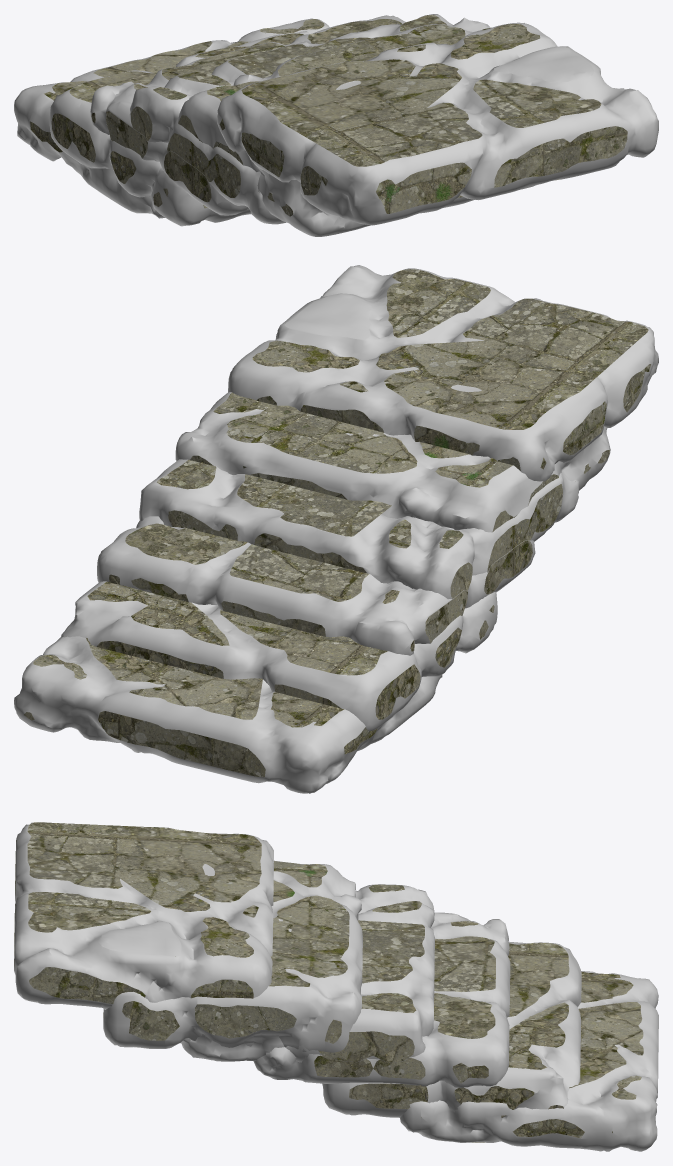
Rendered from SM_Chateaux_06_07.fbx.
3 views of the same model, one above another, from view 1: azimuth 30°, elevation 25°; view 2: azimuth 150°, elevation 25°; view 3: azimuth 270°, elevation 25° (orthographic). The views are drawn at different scales.
Visible parts, largest first — view 1: SM_Chateaux_06_07; view 2: SM_Chateaux_06_07; view 3: SM_Chateaux_06_07.
Part boxes in pixels (x1,y1,x2,y2): SM_Chateaux_06_07: [14, 14, 658, 236]; SM_Chateaux_06_07: [14, 265, 658, 793]; SM_Chateaux_06_07: [14, 822, 658, 1151].
Bounding box in the file's own units: 346 × 231 × 661.
